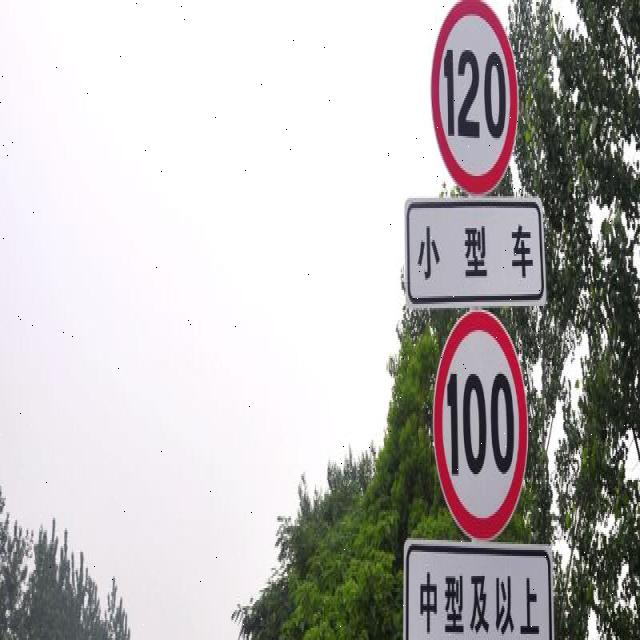speed limit 100: (432, 307, 528, 545)
speed limit 120: (427, 0, 518, 195)
